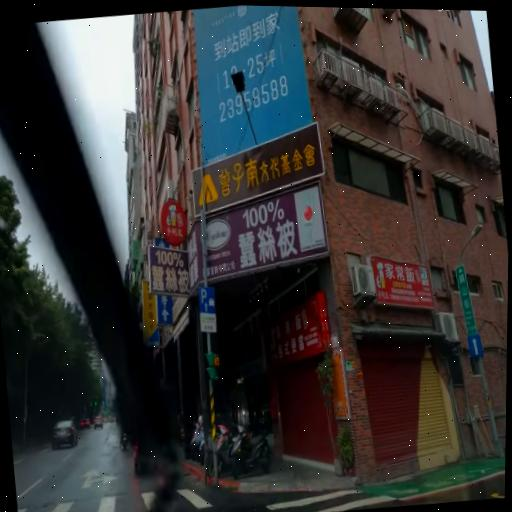Car: (46, 418, 83, 452)
